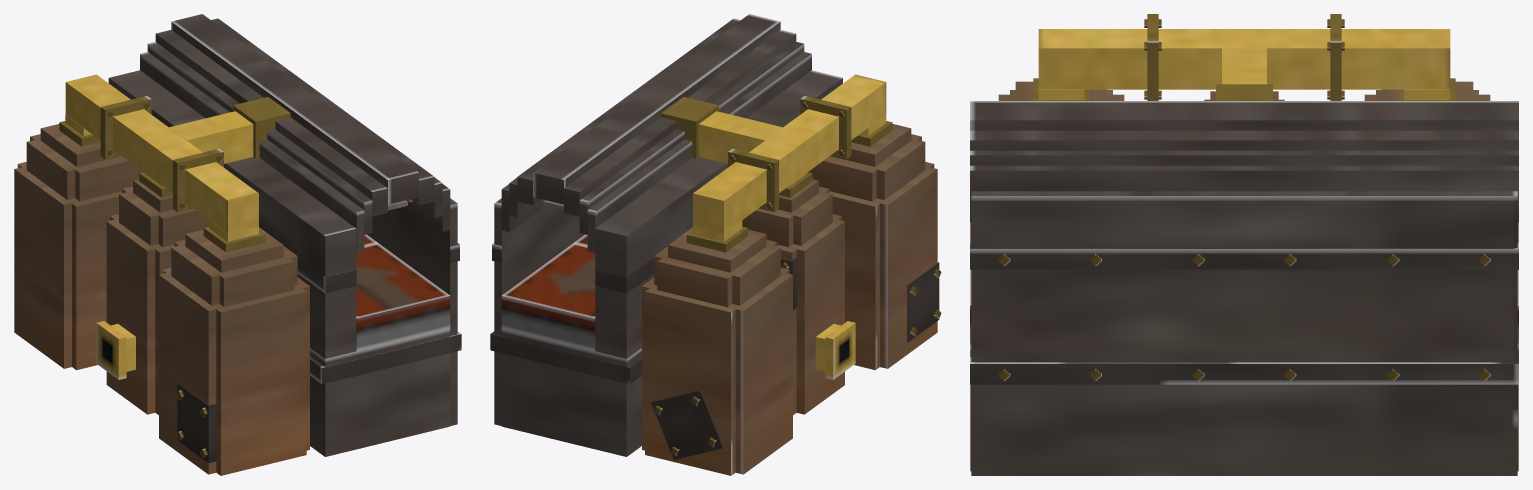
File: steamfurnacemk2.obj
3 renders of one model, left to right at view 1: azimuth 30°, elevation 25°; view 2: azimuth 150°, elevation 25°; view 3: azimuth 270°, elevation 25°, orthographic. The views are drawn at different scales.
Parts seen in each view (by area): view 1: Furnace 24, Furnace6, Furnace2, Furnace 13, Furnace29, Furnace9, Furnace 23, SlopeBeltTop, Furnace 18, Furnace 14, Furnace1, Furnace10 (+25 smaller); view 2: Furnace6, Furnace 14, Furnace2, Furnace 13, Furnace29, Furnace9, Furnace 23, SlopeBeltTop3, Furnace 18, Furnace 24, Furnace1, Furnace10 (+26 smaller); view 3: Furnace1, Furnace29, Furnace9, Furnace7, Furnace56, Furnace49, Furnace8, Furnace5, Furnace33, Receiver4, Receiver9, Furnace 28 (+2 smaller).
Boxes of the visible parts, bbox=[...] form: Furnace 24: bbox=[162, 267, 306, 475]; Furnace6: bbox=[108, 70, 356, 358]; Furnace2: bbox=[310, 328, 450, 456]; Furnace 13: bbox=[14, 166, 79, 368]; Furnace29: bbox=[65, 74, 258, 233]; Furnace9: bbox=[171, 14, 418, 204]; Furnace 23: bbox=[159, 272, 309, 474]; SlopeBeltTop: bbox=[356, 243, 450, 351]; Furnace 18: bbox=[106, 218, 162, 414]; Furnace 14: bbox=[17, 162, 122, 370]; Furnace1: bbox=[367, 198, 457, 425]; Furnace10: bbox=[155, 30, 387, 216]; Furnace6: bbox=[595, 70, 842, 358]; Furnace 14: bbox=[645, 267, 789, 475]; Furnace2: bbox=[501, 328, 641, 456]; Furnace 13: bbox=[642, 272, 792, 474]; Furnace29: bbox=[693, 74, 886, 233]; Furnace9: bbox=[533, 14, 780, 204]; Furnace 23: bbox=[872, 166, 937, 368]; SlopeBeltTop3: bbox=[501, 243, 595, 351]; Furnace 18: bbox=[789, 218, 844, 414]; Furnace 24: bbox=[829, 162, 934, 370]; Furnace1: bbox=[494, 198, 584, 425]; Furnace10: bbox=[564, 30, 796, 216]; Furnace1: bbox=[971, 191, 1517, 475]; Furnace29: bbox=[1038, 29, 1450, 89]; Furnace9: bbox=[970, 101, 1518, 130]; Furnace7: bbox=[970, 165, 1518, 222]; Furnace56: bbox=[970, 347, 1518, 384]; Furnace49: bbox=[970, 243, 1518, 269]; Furnace8: bbox=[970, 130, 1518, 150]; Furnace5: bbox=[970, 150, 1518, 165]; Furnace33: bbox=[1222, 48, 1266, 84]; Receiver4: bbox=[1330, 14, 1341, 100]; Receiver9: bbox=[1147, 14, 1158, 100]; Furnace 28: bbox=[1216, 84, 1272, 100].
Size of the model in its own units: 1.99 by 2 by 3.
